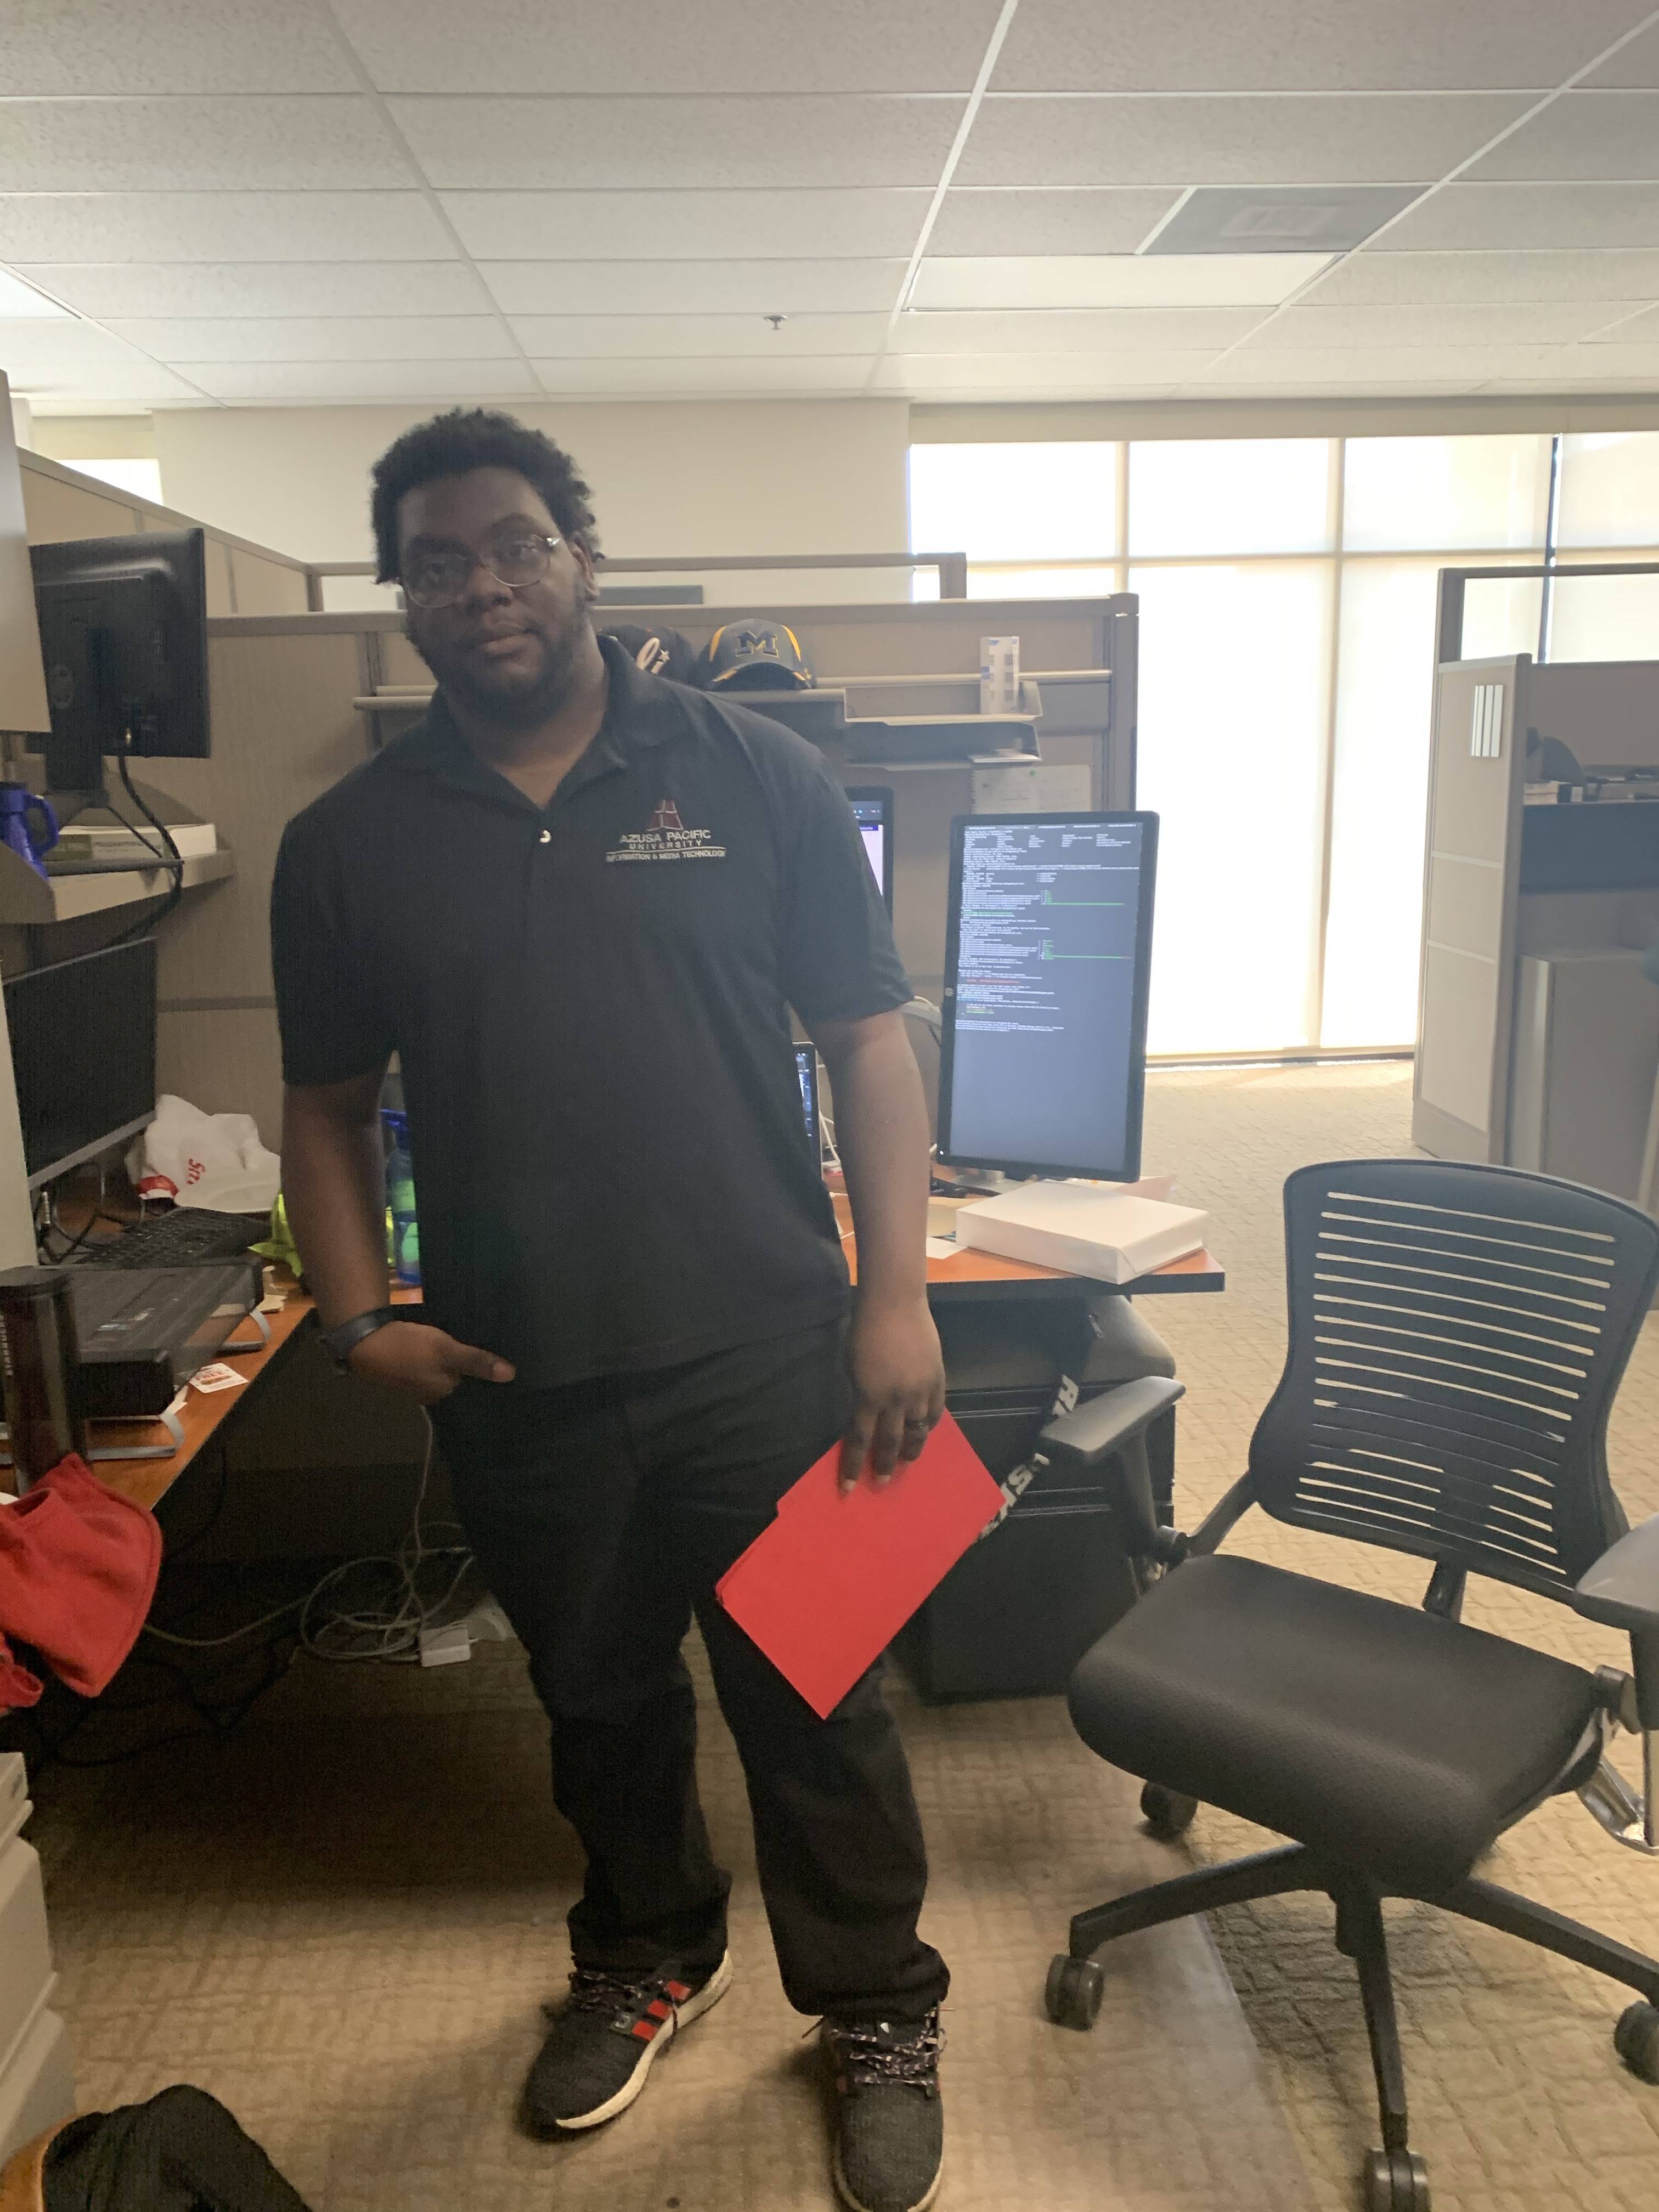red folder: (706, 1383, 1026, 1737)
